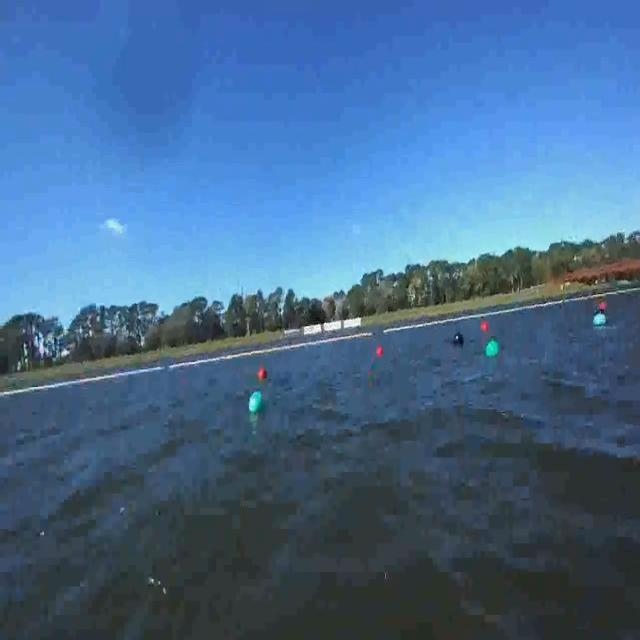black-buoy: (452, 333, 464, 348)
green-buoy: (249, 391, 264, 417), (486, 341, 501, 359), (593, 313, 607, 329)
red-buoy: (482, 323, 491, 335), (260, 367, 268, 380), (378, 347, 384, 356)
